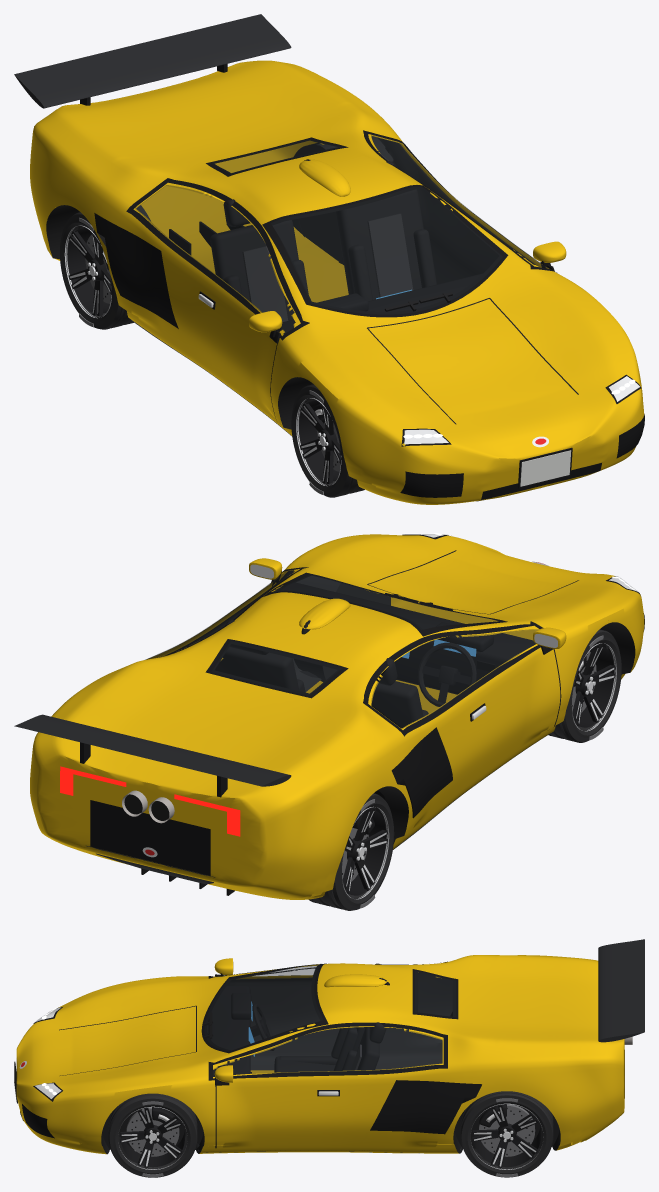
3 renders of one model, top to bottom at view 1: azimuth 30°, elevation 25°; view 2: azimuth 150°, elevation 25°; view 3: azimuth 270°, elevation 25°, orthographic. The views are drawn at different scales.
Visible parts, largest first — view 1: Body, Wheel_RR, Wheel_FR; view 2: Body, Wheel_RR, Wheel_FR; view 3: Body, Wheel_RL, Wheel_FL.
Part boxes in pixels (box(x1,y1,x2,y2)): Body: box(14, 14, 644, 504); Wheel_RR: box(60, 212, 133, 329); Wheel_FR: box(291, 384, 364, 497); Body: box(14, 533, 644, 899); Wheel_RR: box(308, 793, 394, 910); Wheel_FR: box(548, 629, 621, 742); Body: box(14, 939, 644, 1154); Wheel_RL: box(460, 1091, 553, 1177); Wheel_FL: box(108, 1093, 197, 1177).
Bounding box in the file's own units: 2.1 × 1.25 × 4.76.
